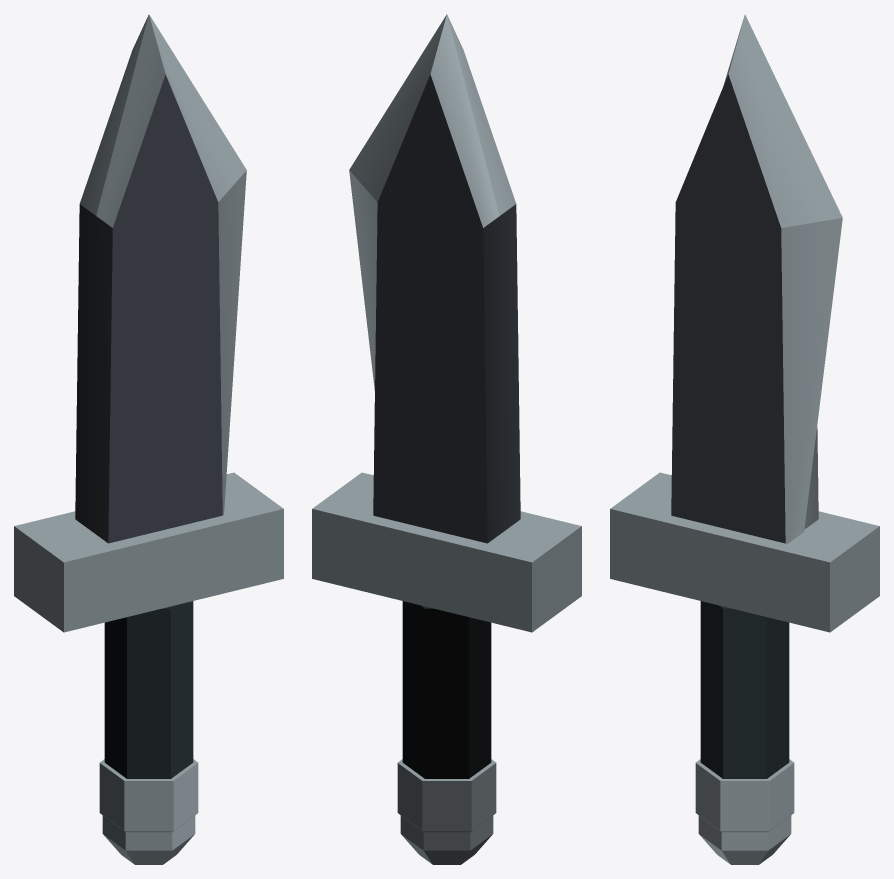
File: rogue_daggers_1.gltf
The picture shows the model from 3 angles, left to right: view 1: azimuth 30°, elevation 25°; view 2: azimuth 150°, elevation 25°; view 3: azimuth 330°, elevation 25°; orthographic projection.
Parts seen in each view (by area): view 1: rogue_daggers_1; view 2: rogue_daggers_1; view 3: rogue_daggers_1.
Boxes of the visible parts, box(x1,y1,x2,y2) form: rogue_daggers_1: box(14, 14, 283, 864); rogue_daggers_1: box(312, 14, 581, 864); rogue_daggers_1: box(610, 14, 879, 864).
Bounding box in the file's own units: 0.23 × 0.84 × 0.09.
Materials: 1 (1 with a texture image).
